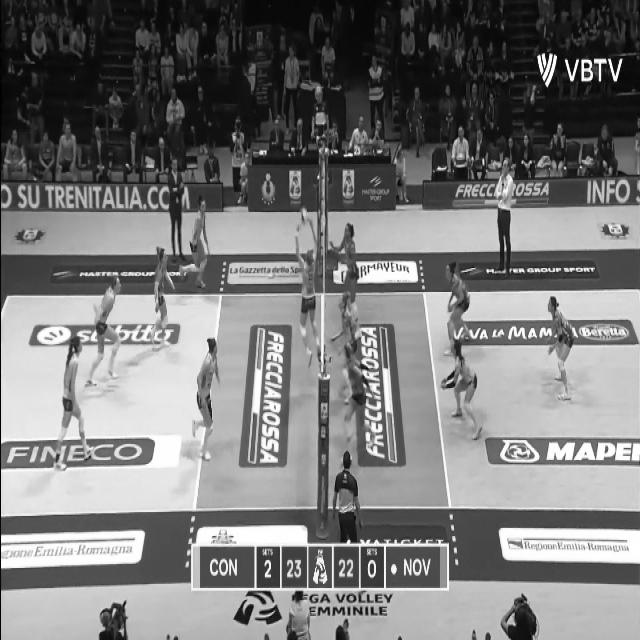volleyball court: (2, 288, 638, 511)
